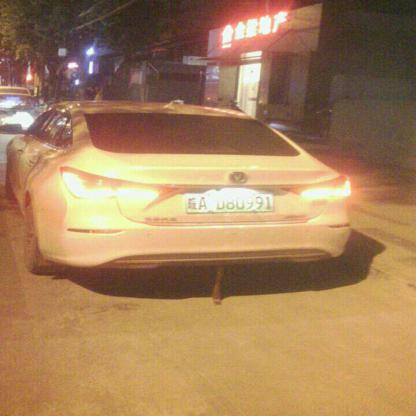lp: (186, 194, 272, 211)
